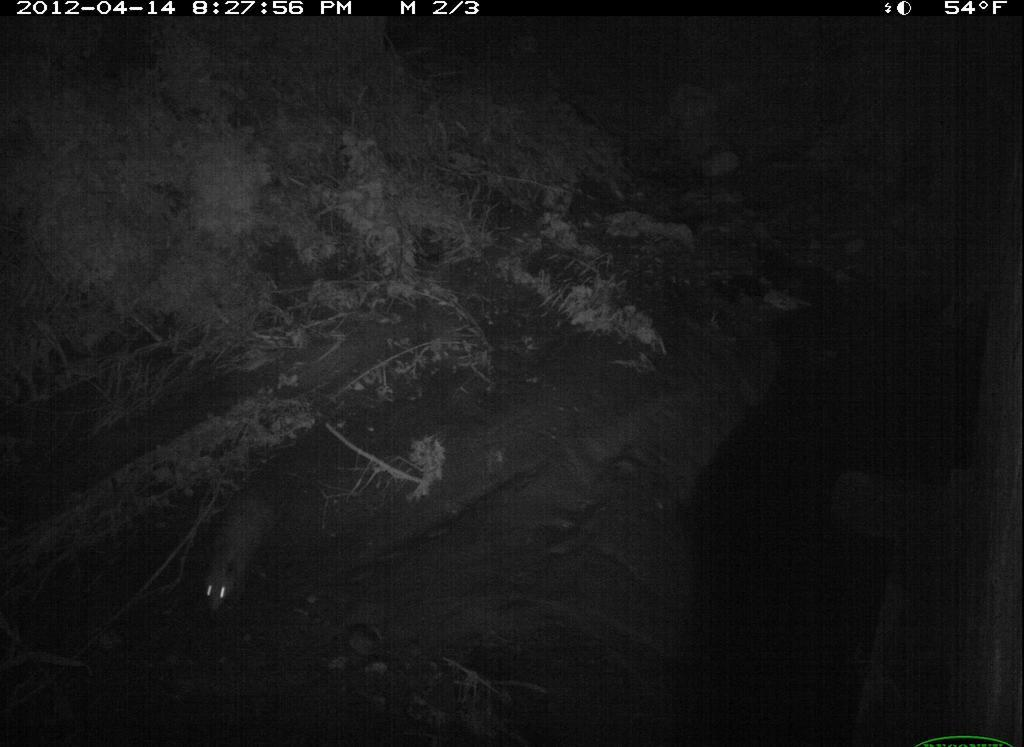opossum: (190, 466, 314, 617)
